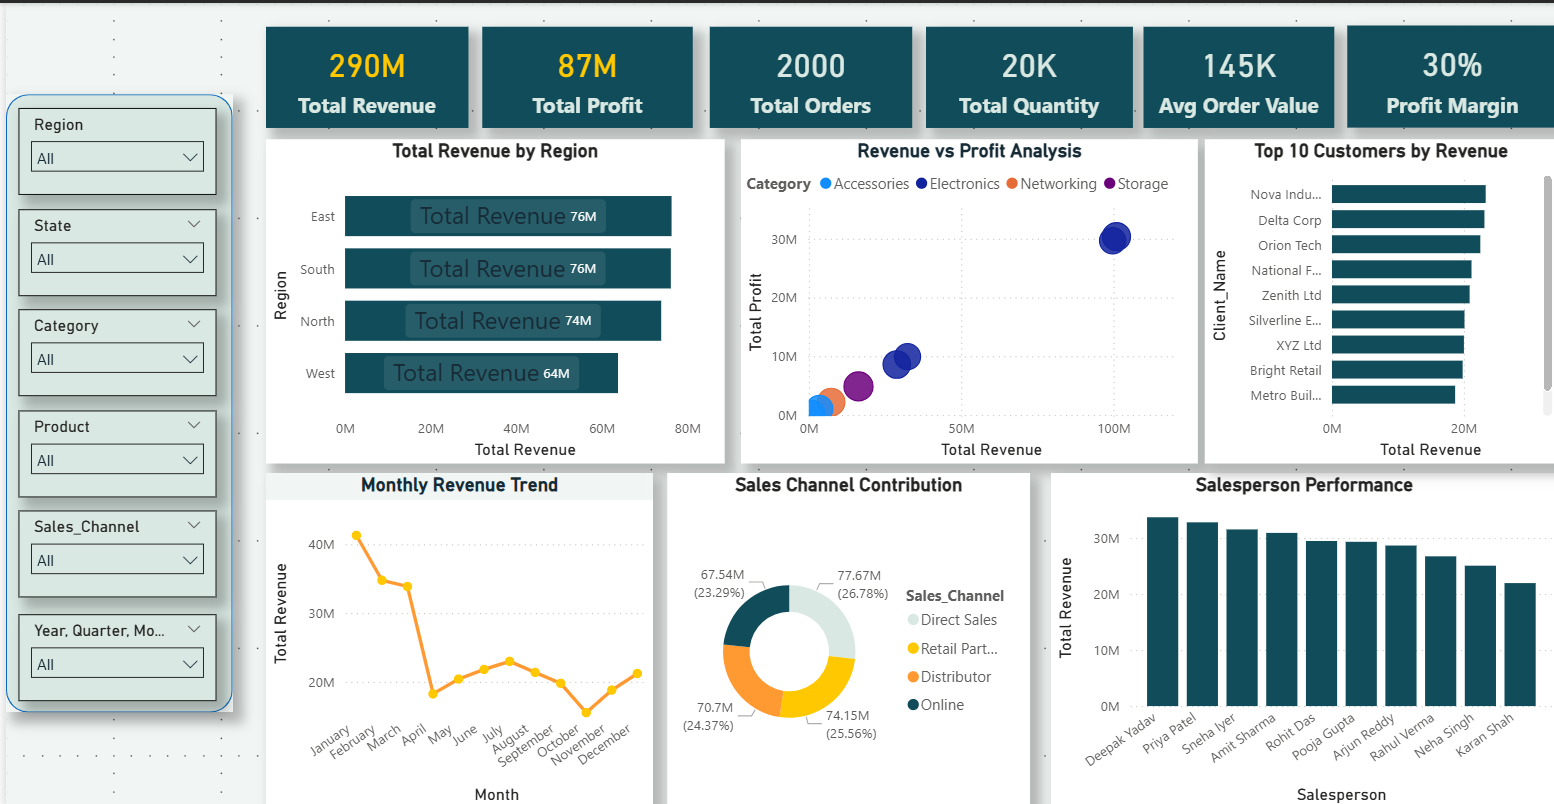

This screenshot's page, from the dashboard's own definition file:
{"tool":"powerbi","page":{"name":"Page 1","canvas":[1400,720],"ordinal":0},"visuals":[{"type":"shape","box":[0,81,202.5,552.2],"z":0},{"type":"slicer","fields":{"Values":["Data.Region"]},"box":[10.8,93.3,176.7,77.3],"z":1000},{"type":"slicer","fields":{"Values":["Data.State"]},"box":[10.8,184.1,176.7,77.3],"z":2000},{"type":"slicer","fields":{"Values":["Data.Category"]},"box":[10.8,273.6,176.7,77.3],"z":3000},{"type":"slicer","fields":{"Values":["Data.Product"]},"box":[10.8,364.4,176.7,77.3],"z":4000},{"type":"slicer","fields":{"Values":["Data.Sales_Channel"]},"box":[10.8,452.8,176.7,77.3],"z":5000},{"type":"slicer","fields":{"Values":["Data.Order_Date.Variation.Date Hierarchy.Year","Data.Order_Date.Variation.Date Hierarchy.Quarter","Data.Order_Date.Variation.Date Hierarchy.Month","Data.Order_Date.Variation.Date Hierarchy.Day"]},"box":[10.8,546,176.7,77.3],"z":6000},{"type":"card","fields":{"Values":["Data.Total Revenue"]},"box":[232.7,21.6,180.6,90.3],"z":7000},{"type":"card","fields":{"Values":["Data.Total Profit"]},"box":[424.8,21.6,188.2,90.3],"z":8000},{"type":"card","fields":{"Values":["Data.Total Orders"]},"box":[628.3,21.6,180.6,90.3],"z":9000},{"type":"card","fields":{"Values":["Data.Total Quantity"]},"box":[821.6,21.6,184.4,90.3],"z":10000},{"type":"card","fields":{"Values":["Data.Avg Order Value"]},"box":[1016.2,21.6,170.4,90.3],"z":11000},{"type":"card","fields":{"Values":["Data.Profit Margin"]},"box":[1198,20.3,188.2,91.6],"z":12000},{"type":"clusteredBarChart","fields":{"Category":["Data.Region"],"Y":["Data.Total Revenue"]},"box":[232.7,122.1,409.5,290],"z":13000},{"type":"lineChart","title":"Monthly Revenue Trend","fields":{"Category":["Data.Order_Date.Variation.Date Hierarchy.Year","Data.Order_Date.Variation.Date Hierarchy.Month"],"Y":["Data.Total Revenue"]},"box":[232.7,419.7,345.9,300.1],"z":14000},{"type":"scatterChart","title":"Revenue vs Profit Analysis","fields":{"X":["Data.Total Revenue"],"Y":["Data.Total Profit"],"Category":["Data.Product"],"Size":["Sum(Data.Quantity)"],"Series":["Data.Category"]},"box":[656.3,122.1,408.2,290],"z":15000},{"type":"donutChart","title":"Sales Channel Contribution","fields":{"Category":["Data.Sales_Channel"],"Y":["Data.Total Revenue"]},"box":[590.1,419.7,324.3,300.1],"z":16000},{"type":"clusteredColumnChart","title":"Salesperson Performance","fields":{"Category":["Data.Salesperson"],"Y":["Data.Total Revenue"]},"box":[933.5,419.7,452.8,300.1],"z":17000},{"type":"clusteredBarChart","title":"Top 10 Customers by Revenue","fields":{"Category":["Data.Client_Name"],"Y":["Data.Total Revenue"]},"box":[1070.9,122.1,315.4,290],"z":18000}]}

Visuals, with their boxes in screenshot pixels (x1, y1, x2, y2), scaled from the page's 1400x720 canvas onto the 1554x804 screenshot:
shape: bbox=(0, 90, 225, 707)
slicer - Data.Region: bbox=(12, 104, 208, 191)
slicer - Data.State: bbox=(12, 206, 208, 292)
slicer - Data.Category: bbox=(12, 306, 208, 392)
slicer - Data.Product: bbox=(12, 407, 208, 493)
slicer - Data.Sales_Channel: bbox=(12, 506, 208, 592)
slicer - Data.Order_Date.Variation.Date Hierarchy.Year x Data.Order_Date.Variation.Date Hierarchy.Quarter: bbox=(12, 610, 208, 696)
card - Data.Total Revenue: bbox=(258, 24, 459, 125)
card - Data.Total Profit: bbox=(472, 24, 680, 125)
card - Data.Total Orders: bbox=(697, 24, 898, 125)
card - Data.Total Quantity: bbox=(912, 24, 1117, 125)
card - Data.Avg Order Value: bbox=(1128, 24, 1317, 125)
card - Data.Profit Margin: bbox=(1330, 23, 1539, 125)
clusteredBarChart - Data.Region x Data.Total Revenue: bbox=(258, 136, 713, 460)
"Monthly Revenue Trend" lineChart: bbox=(258, 469, 642, 803)
"Revenue vs Profit Analysis" scatterChart: bbox=(728, 136, 1182, 460)
"Sales Channel Contribution" donutChart: bbox=(655, 469, 1015, 803)
"Salesperson Performance" clusteredColumnChart: bbox=(1036, 469, 1539, 803)
"Top 10 Customers by Revenue" clusteredBarChart: bbox=(1189, 136, 1539, 460)
